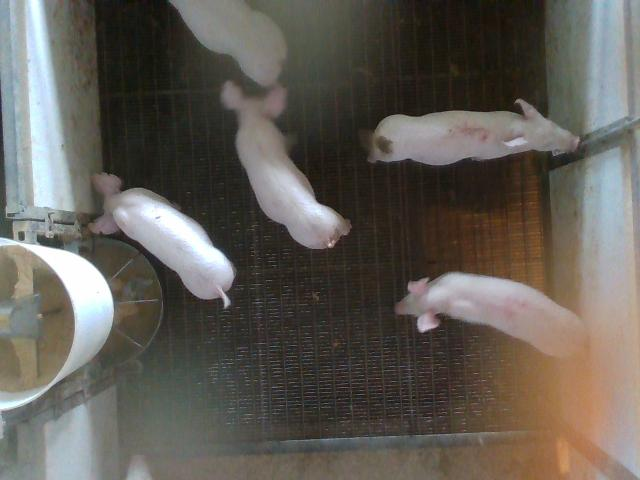pig-4: (395, 272, 585, 357)
pig-5: (368, 99, 579, 165)
